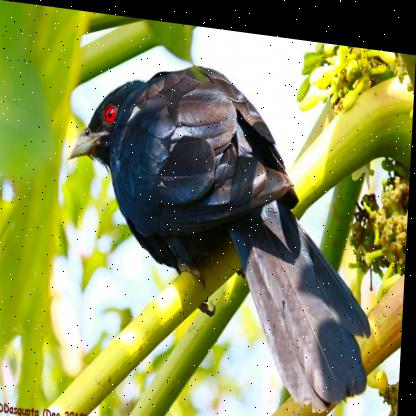Burung: (59, 47, 383, 408)
